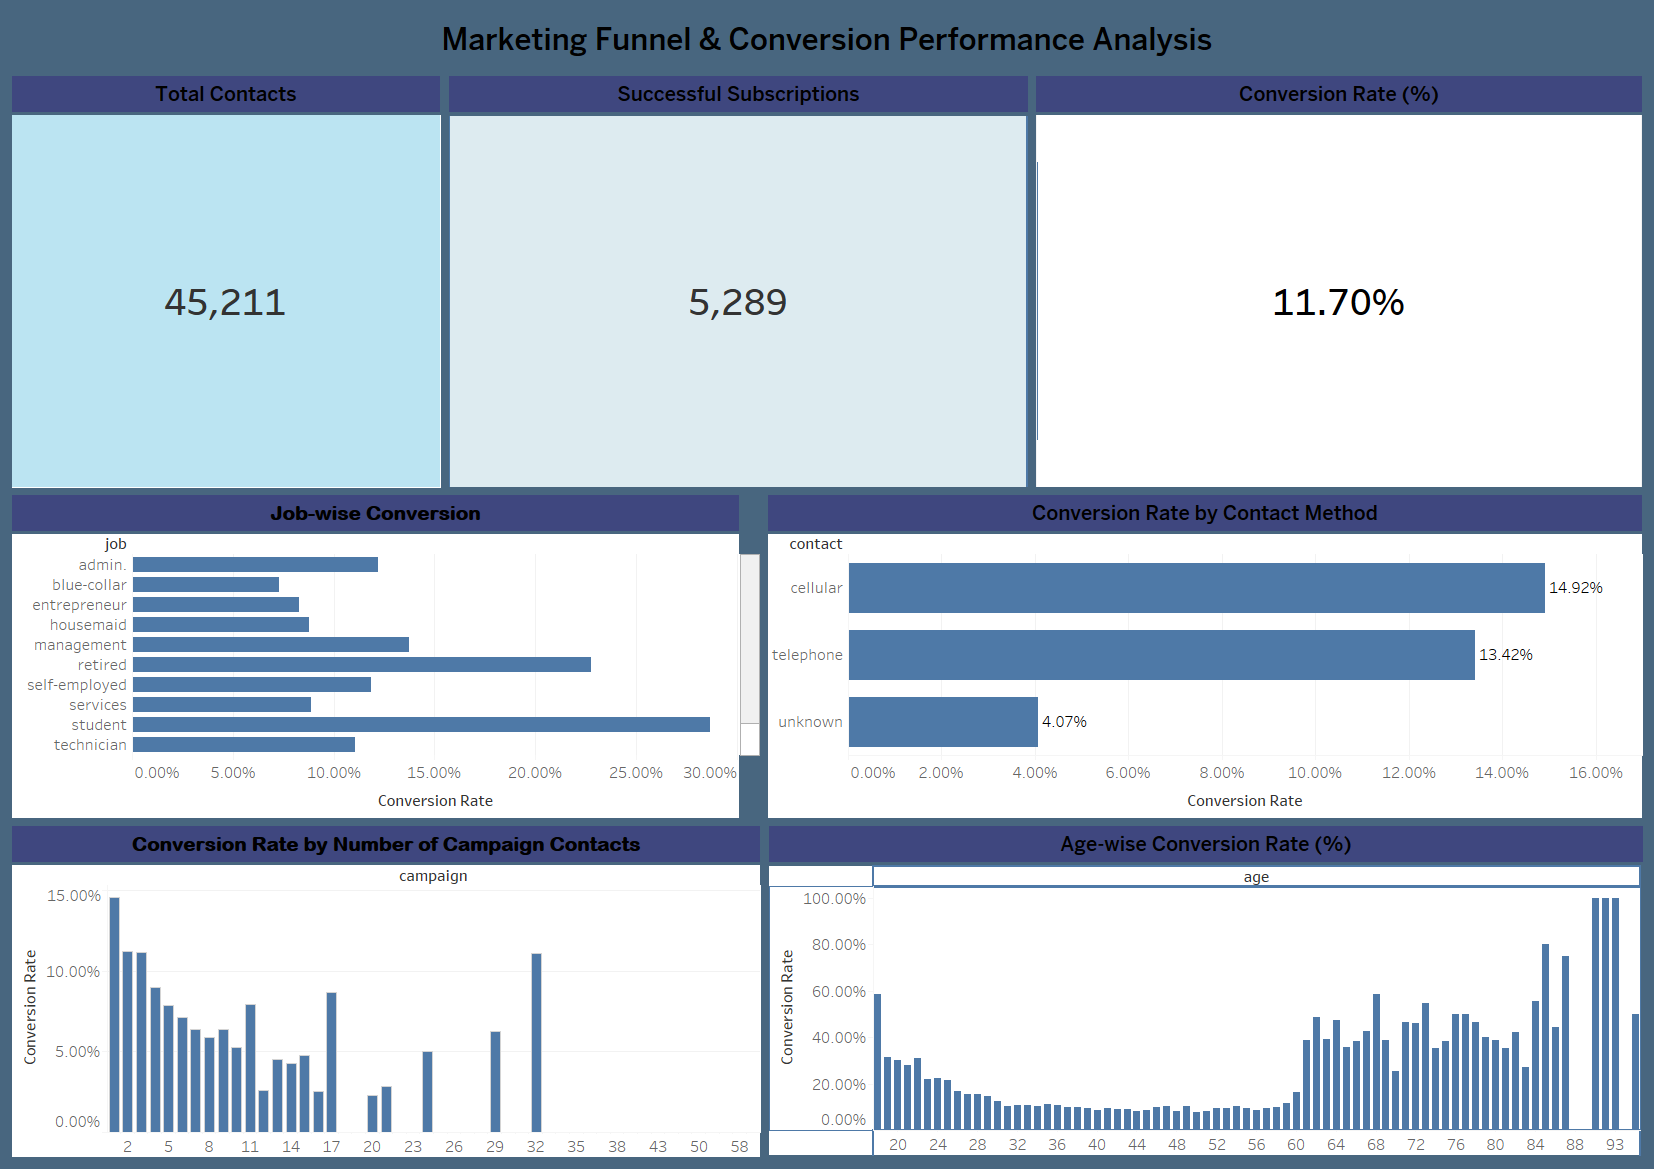

What the dashboard file says about the page in this screenshot:
{"tool":"tableau","page":{"name":"Dashboard 1","canvas":[1654,1169],"ordinal":0},"visuals":[{"type":"title","box":[8,8,1638,64]},{"type":"worksheet","title":"Total Contacts","mark":"Automatic","box":[8,72,436,419.4]},{"type":"worksheet","title":"Successful Subscriptions","mark":"Automatic","box":[444,72,587.6,419.4]},{"type":"worksheet","title":"Conversion Rate (%)","mark":"Bar","box":[1031.6,72,614.4,419.4]},{"type":"worksheet","title":"Job-wise Conversion","mark":"Automatic","rows":["job"],"cols":["Calculation_3573606364389343237"],"box":[8,491.4,755.6,330.6]},{"type":"worksheet","title":"Contact Method Performance.","mark":"Automatic","rows":["contact"],"cols":["Calculation_3573606364389343237"],"box":[763.6,491.4,882.4,330.6]},{"type":"worksheet","title":"Campaign Contacts vs Conversion","mark":"Bar","rows":["Calculation_3573606364389343237"],"cols":["campaign"],"box":[8,822,755.6,339]},{"type":"worksheet","title":"Age-wise Conversion","mark":"Automatic","rows":["Calculation_3573606364389343237"],"cols":["age"],"box":[763.6,822,882.4,339]}]}

Visuals, with their boxes in screenshot pixels (x1, y1, x2, y2), scaled from the page's 1654x1169 canvas onto the 1654x1169 screenshot:
title: (8,8,1646,72)
"Total Contacts" worksheet: (8,72,444,491)
"Successful Subscriptions" worksheet: (444,72,1032,491)
"Conversion Rate (%)" worksheet (Bar marks): (1032,72,1646,491)
"Job-wise Conversion" worksheet: (8,491,764,822)
"Contact Method Performance." worksheet: (764,491,1646,822)
"Campaign Contacts vs Conversion" worksheet (Bar marks): (8,822,764,1161)
"Age-wise Conversion" worksheet: (764,822,1646,1161)
